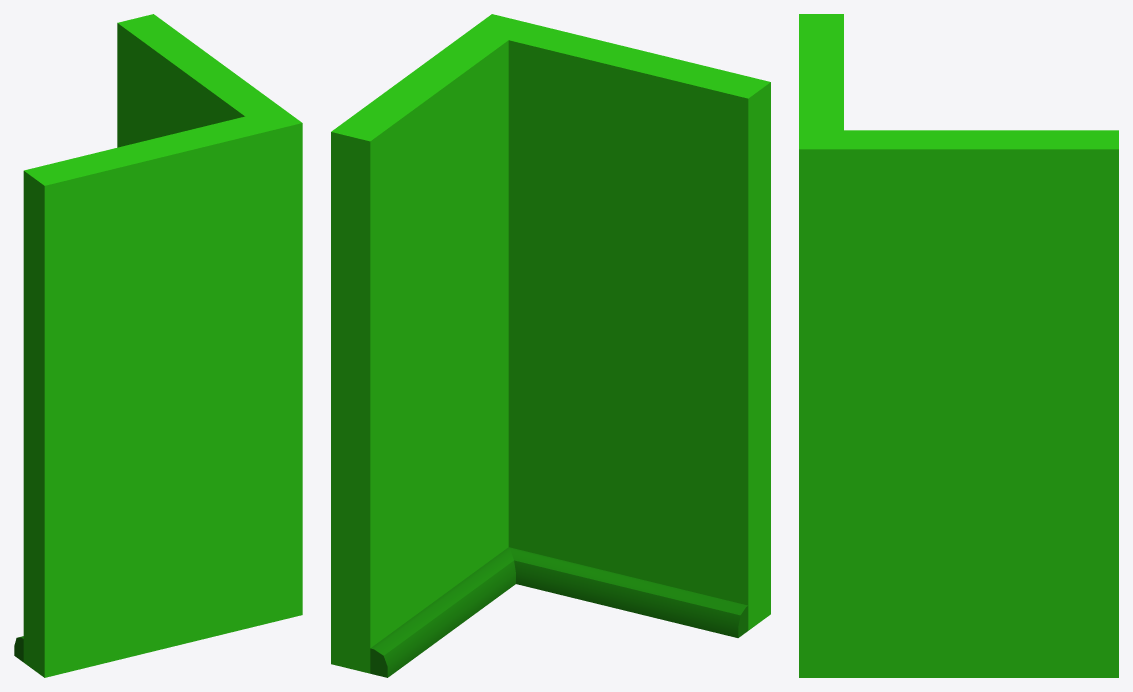
File: G_WallCorner002.fbx
3 renders of one model, left to right at view 1: azimuth 30°, elevation 25°; view 2: azimuth 150°, elevation 25°; view 3: azimuth 270°, elevation 25°, orthographic. The views are drawn at different scales.
Parts seen in each view (by area): view 1: WallCorner2.003; view 2: WallCorner2.003; view 3: WallCorner2.003.
Part boxes in pixels (x1=…): WallCorner2.003: x1=14, y1=14, x2=302, y2=677; WallCorner2.003: x1=331, y1=14, x2=770, y2=677; WallCorner2.003: x1=799, y1=14, x2=1118, y2=677.
Size of the model in its own units: 137 by 250 by 137.
1 material, 1 textured.
